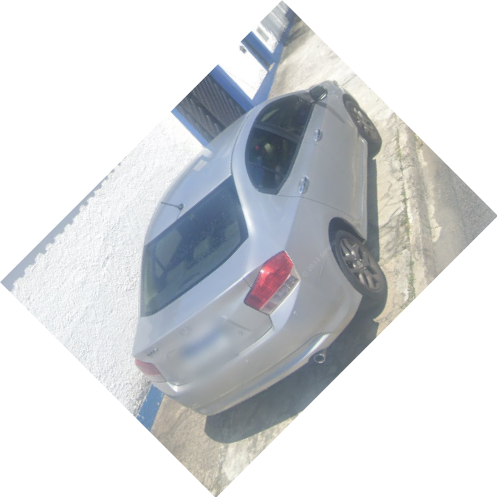car: (137, 81, 387, 418)
